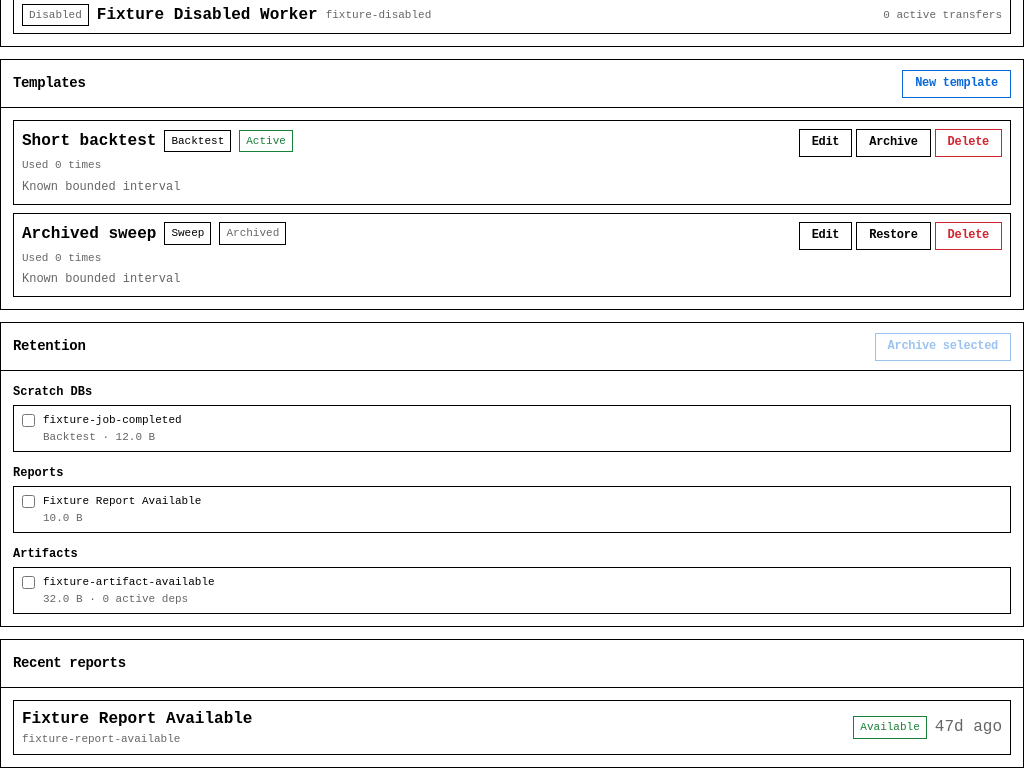
Test case: ResearchOverviewPage › keeps the archive selected action disabled until a candidate is chosen
(page scrolled)
Expected: the button "Archive selected" is disabled, [875, 332, 1011, 360]
Click the checkbox labelled "fixture-job-completed Backtest · 12.0 B" at (28, 420), box [22, 414, 35, 427]
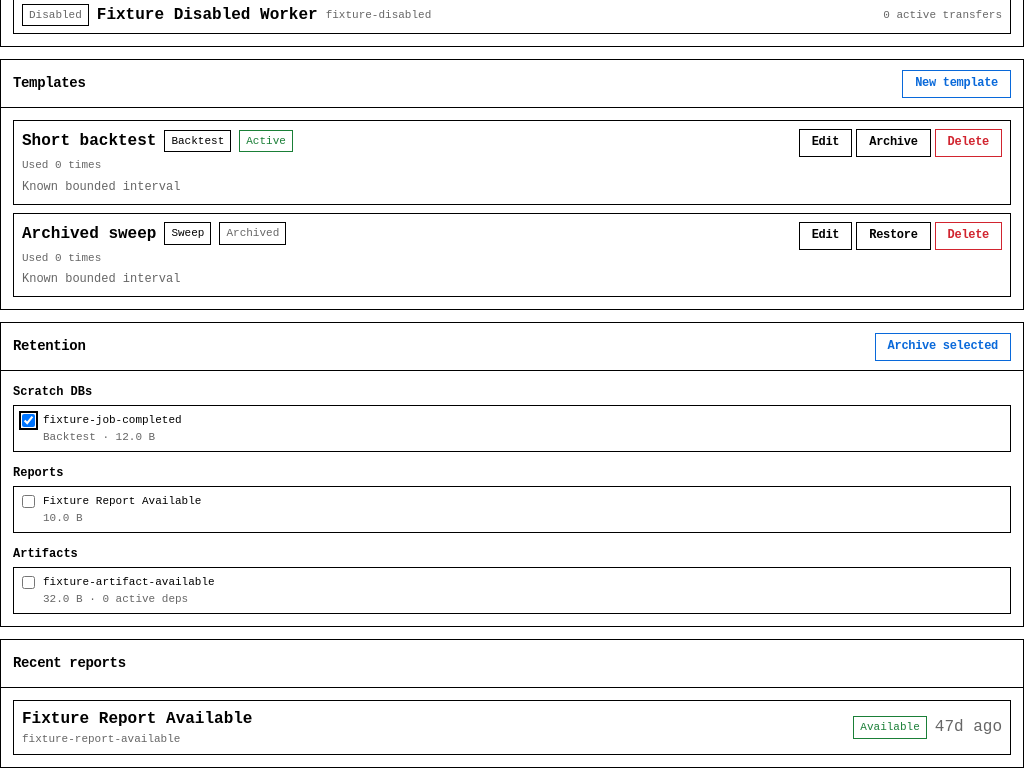
Expected: the button "Archive selected" is enabled, [875, 332, 1011, 360]
